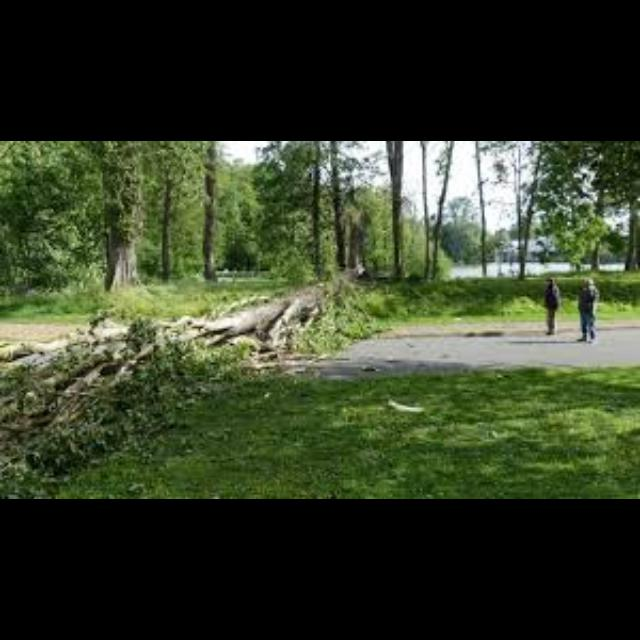Fallen Tree: (92, 258, 372, 352)
